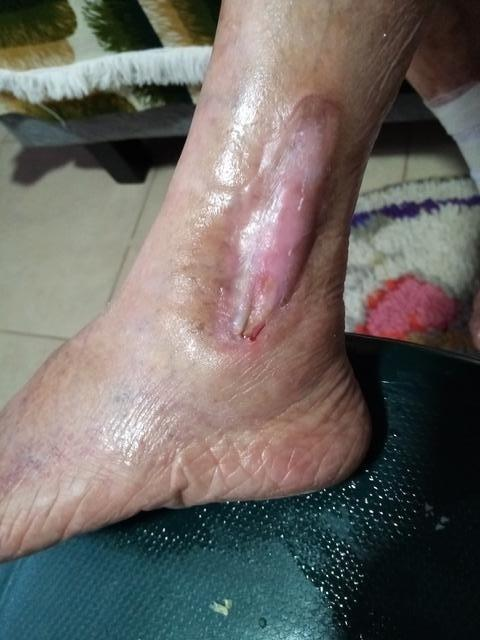wound: (203, 125, 344, 352)
